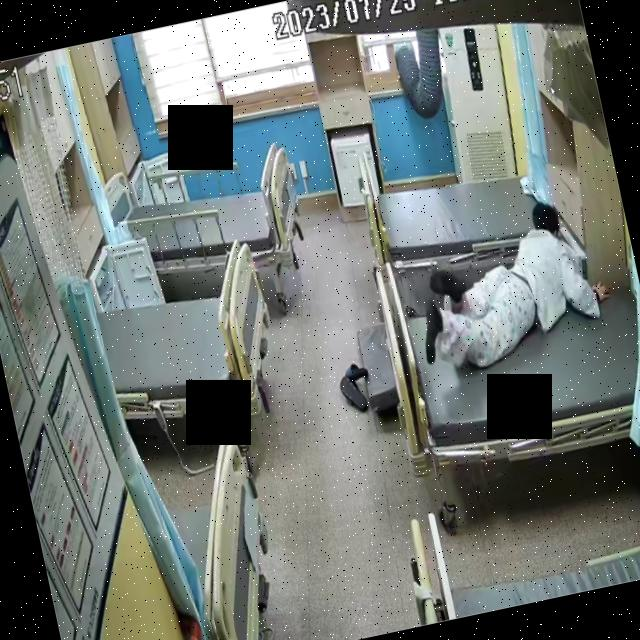bed: (366, 211, 640, 482), (351, 105, 565, 296), (92, 240, 287, 436), (120, 146, 308, 293)
danger: (394, 186, 616, 382)
patient: (394, 188, 618, 382)
